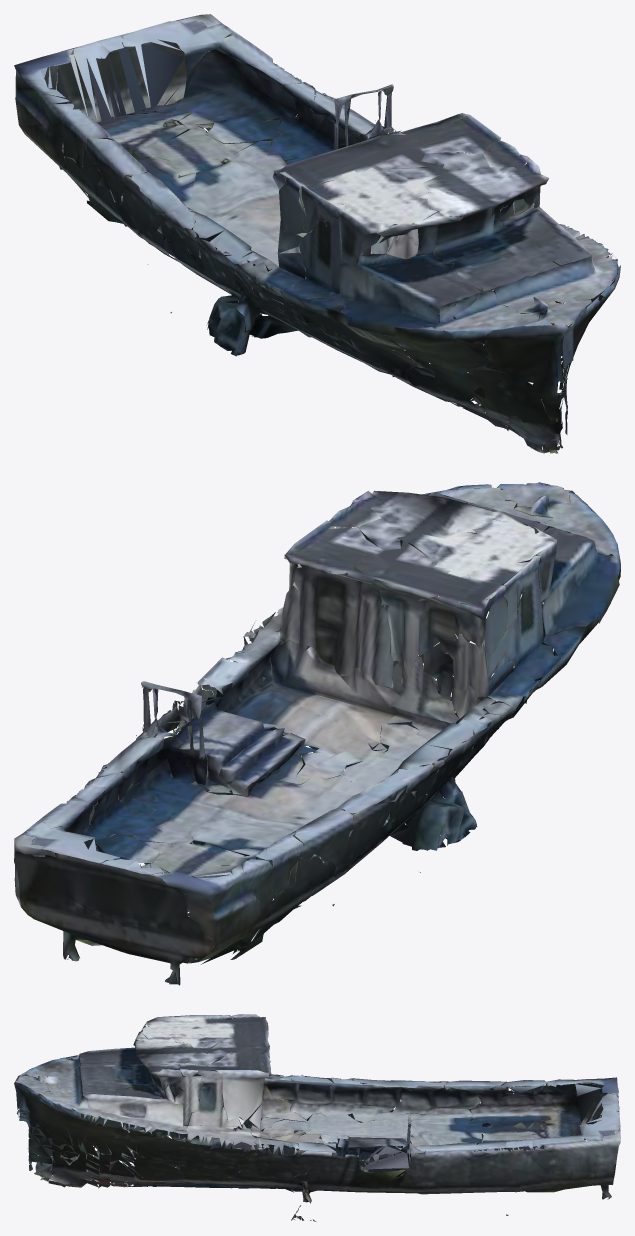
File: cape-islander-far.glb
3 renders of one model, top to bottom at view 1: azimuth 30°, elevation 25°; view 2: azimuth 150°, elevation 25°; view 3: azimuth 270°, elevation 25°, orthographic. The views are drawn at different scales.
Visible parts, largest first — view 1: Object_2; view 2: Object_2; view 3: Object_2.
Part boxes in pixels (box(x1,y1,x2,y2)): Object_2: box(14, 14, 620, 453); Object_2: box(14, 482, 620, 985); Object_2: box(14, 1014, 620, 1221).
Bounding box in the file's own units: 4.3 × 3.38 × 12.94.
1 material, 1 textured.
